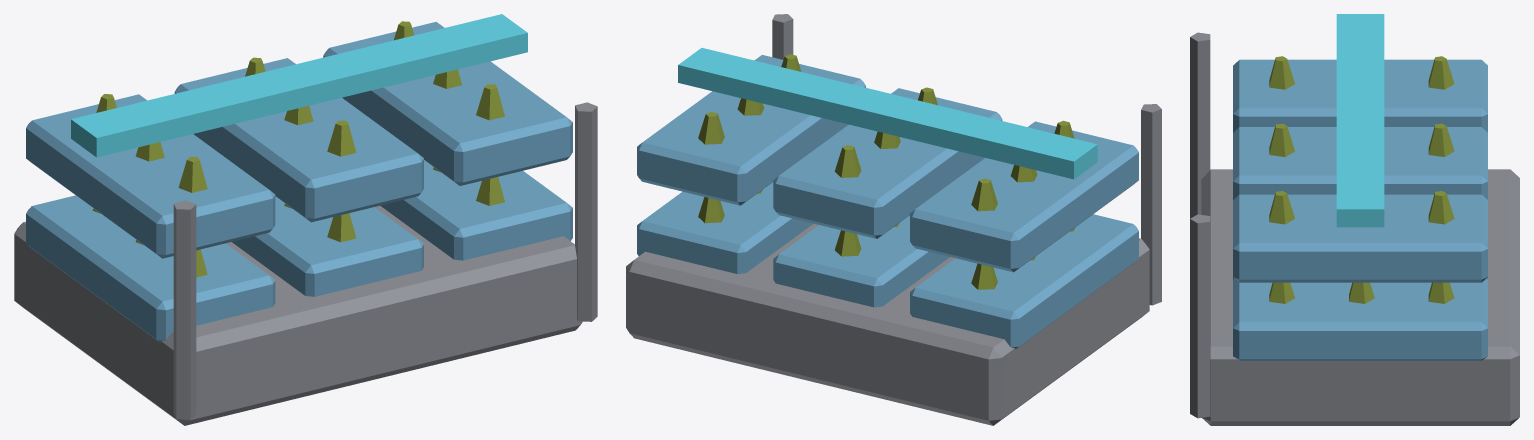
Rendered from imp_plantation.glb.
3 views of the same model, side by side, from view 1: azimuth 30°, elevation 25°; view 2: azimuth 150°, elevation 25°; view 3: azimuth 270°, elevation 25° (orthographic). The views are drawn at different scales.
Parts seen in each view (by area): view 1: imp_plantation; view 2: imp_plantation; view 3: imp_plantation.
Part boxes in pixels (x1,y1,x2,y2): imp_plantation: [14, 14, 597, 425]; imp_plantation: [626, 14, 1161, 425]; imp_plantation: [1190, 14, 1519, 425].
Size of the model in its own units: 0.58 by 0.3125 by 0.414.
